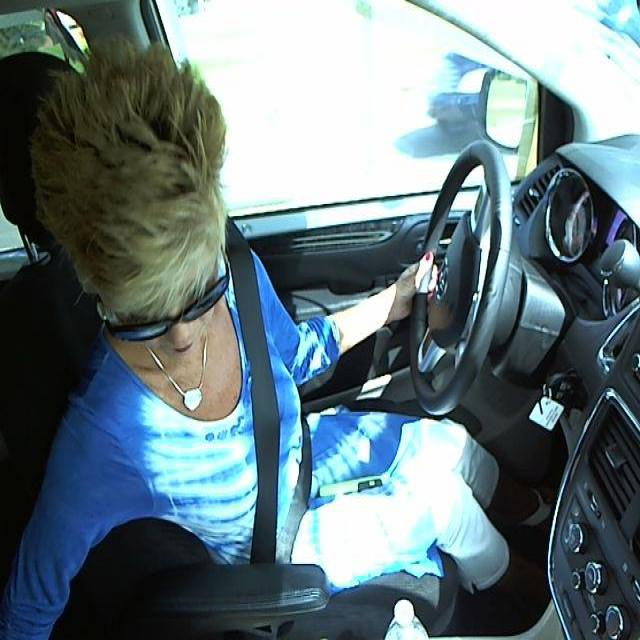seatbelt: (240, 286, 293, 582)
